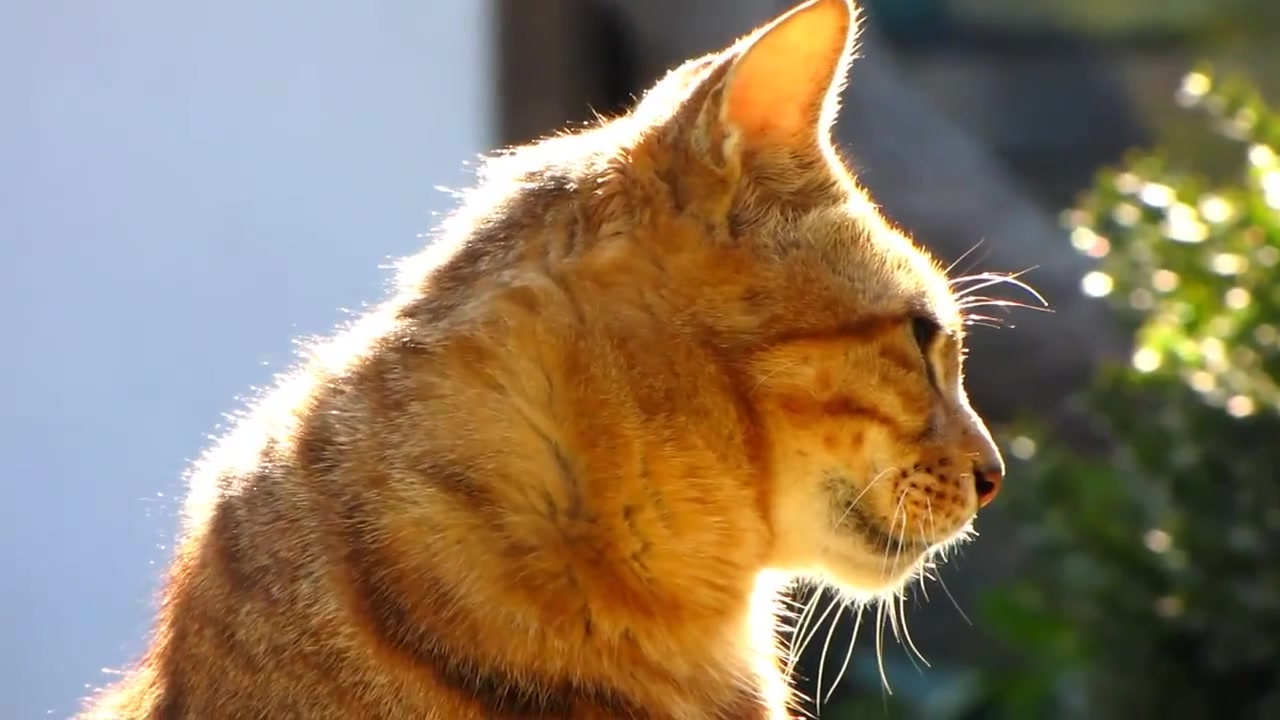cat: (71, 1, 1012, 718)
